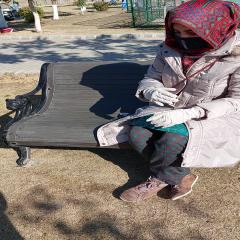gloved: (148, 110, 192, 128), (144, 88, 180, 106)
